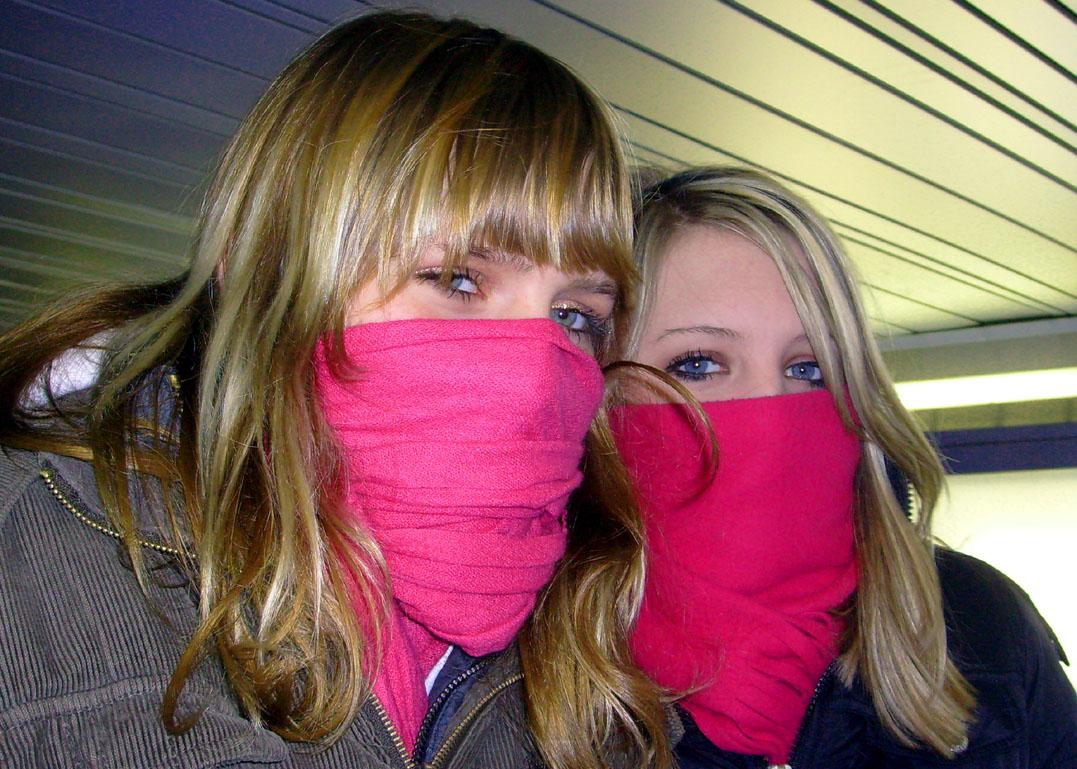OK: (302, 225, 611, 534), (630, 308, 877, 563)
